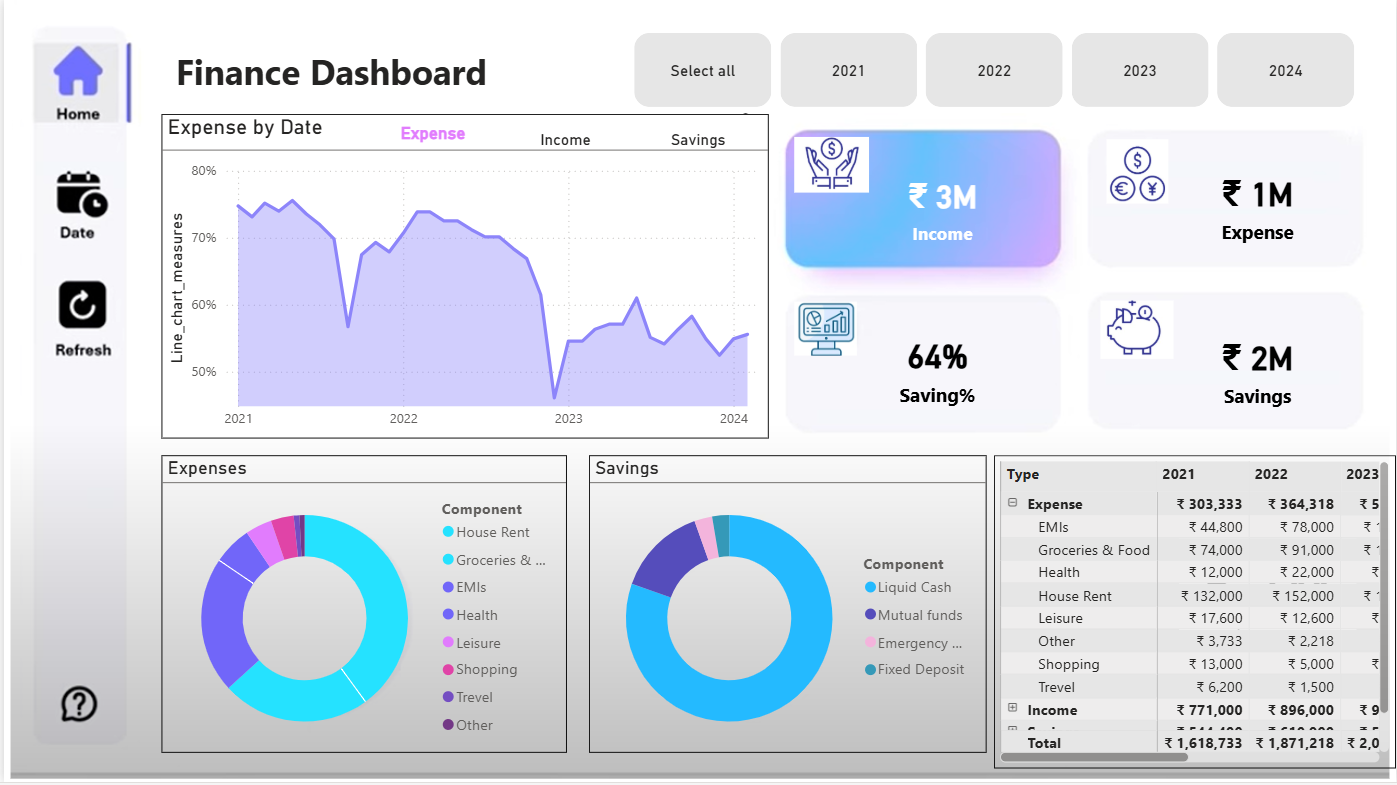

What the dashboard file says about the page in this screenshot:
{"tool":"powerbi","page":{"name":"Summary","canvas":[1280,720],"ordinal":0},"visuals":[{"type":"card","fields":{"Values":["FinData.Expense"]},"box":[1081,490.8,163.2,108],"z":0},{"type":"card","fields":{"Values":["FinData.Expense"]},"box":[1081,144.8,144.8,88.3],"z":1000},{"type":"advancedSlicerVisual","fields":{"Values":["FinData.Year"]},"box":[574.2,27,672.4,78.5],"z":2000},{"type":"card","fields":{"Values":["FinData.Income"]},"box":[771.8,131.3,184.1,120.2],"z":3000},{"type":"card","fields":{"Values":["FinData.Saving%"]},"box":[789,293.3,139.9,90.8],"z":4000},{"type":"donutChart","title":"Savings ","fields":{"Y":["FinData.Savings"],"Category":["FinData.Component"]},"box":[537.4,419.6,365.6,273.6],"z":5000},{"type":"donutChart","title":"Expenses","fields":{"Category":["FinData.Component"],"Y":["FinData.Expense"]},"box":[144.8,419.6,373,273.6],"z":6000},{"type":"pivotTable","fields":{"Values":["FinData.Total_Value"],"Rows":["FinData.Type","FinData.Component"],"Columns":["FinData.Year"]},"box":[910.4,419.6,369.3,288.3],"z":7000},{"type":"areaChart","fields":{"Category":["FinData.Date"],"Y":["FinData.Line_chart_measures"]},"box":[144.8,105.5,558.3,298.2],"z":8000},{"type":"advancedSlicerVisual","fields":{"Values":["Line_Selection_Table.Type"]},"box":[331.3,101.8,373,42.9],"z":9000},{"type":"textbox","box":[153.4,40.5,371.8,65],"z":10000},{"type":"card","fields":{"Values":["FinData.Savings"]},"box":[1081,295.7,144.8,88.3],"z":11004},{"type":"image","box":[1003.7,269.9,77.3,68.7],"z":11008},{"type":"image","box":[721.5,117.8,78.5,71.2],"z":11009},{"type":"image","box":[1003.7,123.9,77.3,68.7],"z":11010},{"type":"image","box":[721.5,265,67.5,74.8],"z":11011},{"type":"actionButton","box":[22.1,251.5,99.4,87.1],"z":11012},{"type":"actionButton","box":[22.3,152.7,86.9,80.7],"z":11014},{"type":"actionButton","box":[14.5,148.9,99.8,83.9],"z":11015}]}

Visuals, with their boxes on the page's 1280x720 design canvas (x1, y1, x2, y2). These are canvas units, not pixel positions in the 1397x785 screenshot, which may show the page scaled, cropped or inside an application window:
card - FinData.Expense: detection(1081, 491, 1244, 599)
card - FinData.Expense: detection(1081, 145, 1226, 233)
advancedSlicerVisual - FinData.Year: detection(574, 27, 1247, 106)
card - FinData.Income: detection(772, 131, 956, 252)
card - FinData.Saving%: detection(789, 293, 929, 384)
"Savings " donutChart: detection(537, 420, 903, 693)
"Expenses" donutChart: detection(145, 420, 518, 693)
pivotTable - FinData.Total_Value x FinData.Type: detection(910, 420, 1280, 708)
areaChart - FinData.Date x FinData.Line_chart_measures: detection(145, 106, 703, 404)
advancedSlicerVisual - Line_Selection_Table.Type: detection(331, 102, 704, 145)
textbox: detection(153, 40, 525, 106)
card - FinData.Savings: detection(1081, 296, 1226, 384)
image: detection(1004, 270, 1081, 339)
image: detection(722, 118, 800, 189)
image: detection(1004, 124, 1081, 193)
image: detection(722, 265, 789, 340)
actionButton: detection(22, 252, 122, 339)
actionButton: detection(22, 153, 109, 233)
actionButton: detection(14, 149, 114, 233)
